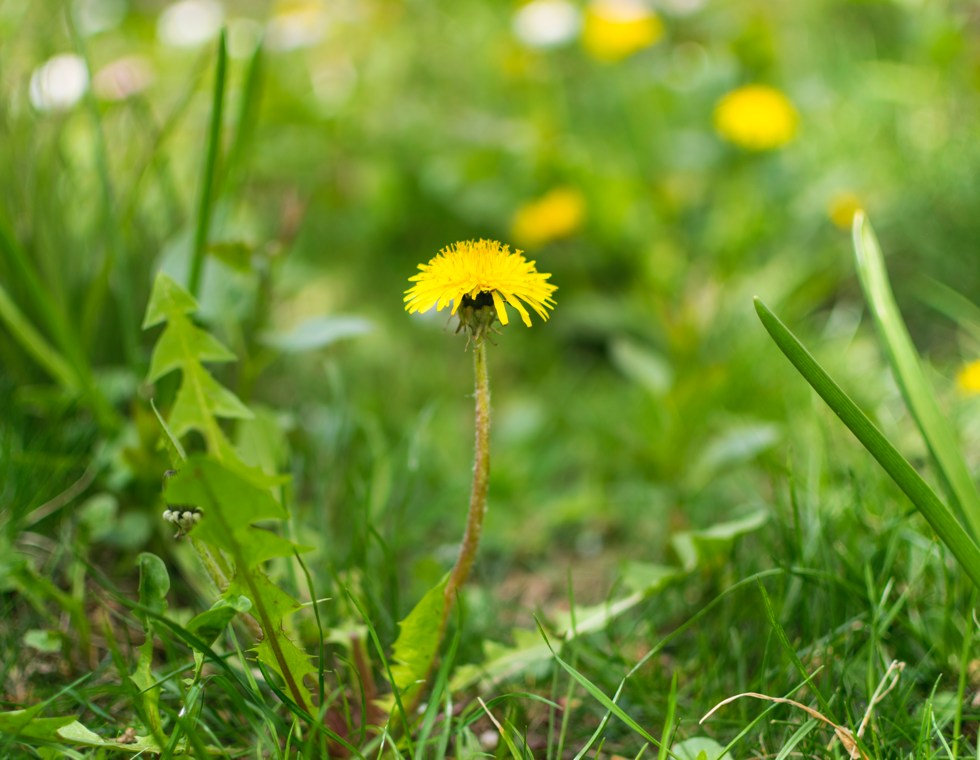dandelion: (398, 237, 553, 318)
